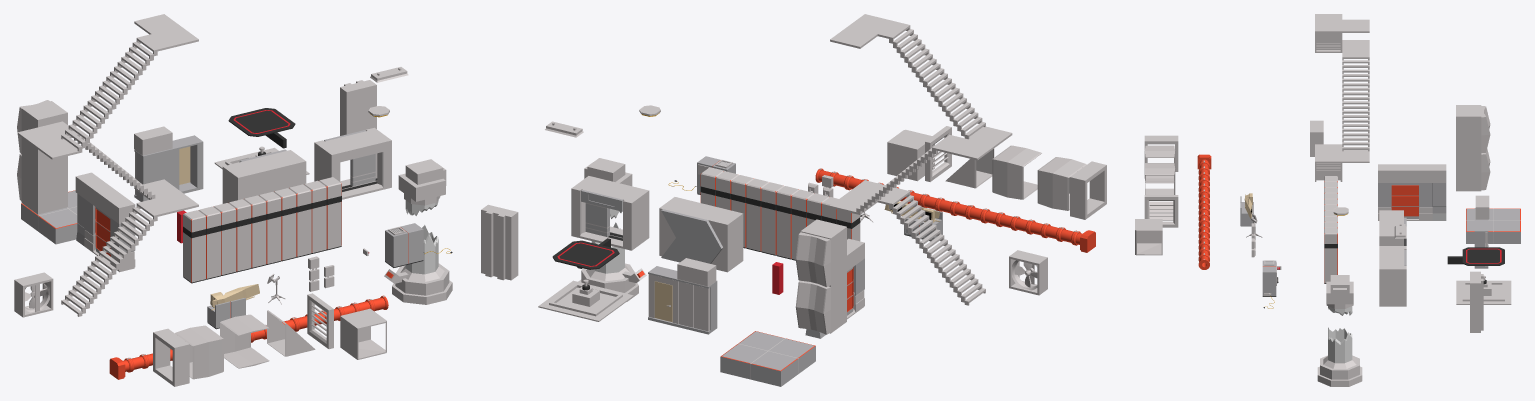
File: EndGameThing_broken.fbx
3 views of the same model, side by side, from view 1: azimuth 30°, elevation 25°; view 2: azimuth 150°, elevation 25°; view 3: azimuth 270°, elevation 25° (orthographic). The views are drawn at different scales.
Parts seen in each view (by area): view 1: WallSegment, EndGameThing, Stair.002, Stairs, ChevronWall_connector, Elevator_bay, ChevronWall_segment, Doorway, Stair.001, AirDuct, AirDuct.001, Elevator_wall (+21 smaller); view 2: WallSegment, ChevronWall_connector, ChevronWall_segment, Stair.002, Stairs, Elevator_bay, Floor_labs, Pipe_middle, Elevator_wall, EndGameThing, Stair.001, Elevator_base (+15 smaller); view 3: EndGameThing, ChevronWall_connector, Stair.001, Doorway, Elevator_bay, Floor_labs, WallSegment, Stair.002, Stairs, Pipe_middle, Elevator_base, Airvent_Corner (+13 smaller).
Part boxes in pixels (bbox=[...]): WallSegment: bbox=[183, 177, 341, 283]; EndGameThing: bbox=[384, 159, 452, 304]; Stair.002: bbox=[61, 14, 198, 151]; Stairs: bbox=[61, 179, 198, 316]; ChevronWall_connector: bbox=[17, 100, 67, 214]; Elevator_bay: bbox=[314, 127, 391, 199]; ChevronWall_segment: bbox=[222, 149, 306, 203]; Doorway: bbox=[84, 179, 135, 272]; Stair.001: bbox=[17, 121, 155, 199]; AirDuct: bbox=[175, 325, 223, 379]; AirDuct.001: bbox=[220, 314, 269, 368]; Elevator_wall: bbox=[340, 80, 376, 135]; WallSegment: bbox=[700, 167, 860, 260]; ChevronWall_connector: bbox=[795, 219, 846, 334]; ChevronWall_segment: bbox=[659, 197, 743, 272]; Stair.002: bbox=[830, 14, 985, 139]; Stairs: bbox=[830, 180, 985, 305]; Elevator_bay: bbox=[571, 176, 649, 250]; Floor_labs: bbox=[720, 331, 815, 386]; Pipe_middle: bbox=[815, 168, 1076, 244]; Elevator_wall: bbox=[481, 204, 518, 280]; EndGameThing: bbox=[578, 158, 646, 301]; Stair.001: bbox=[856, 126, 1012, 212]; Elevator_base: bbox=[538, 279, 633, 321]; EndGameThing: bbox=[1317, 275, 1362, 386]; ChevronWall_connector: bbox=[1456, 105, 1490, 191]; Stair.001: bbox=[1315, 40, 1369, 151]; Doorway: bbox=[1378, 164, 1432, 220]; Elevator_bay: bbox=[1379, 246, 1406, 306]; Floor_labs: bbox=[1466, 208, 1520, 243]; WallSegment: bbox=[1324, 176, 1337, 283]; Stair.002: bbox=[1315, 14, 1369, 51]; Stairs: bbox=[1315, 144, 1369, 181]; Pipe_middle: bbox=[1198, 161, 1209, 269]; Elevator_base: bbox=[1456, 275, 1511, 304]; Airvent_Corner: bbox=[1135, 219, 1162, 255].
Size of what is drawn, in the model's own units: 3024 by 2049 by 2817.
